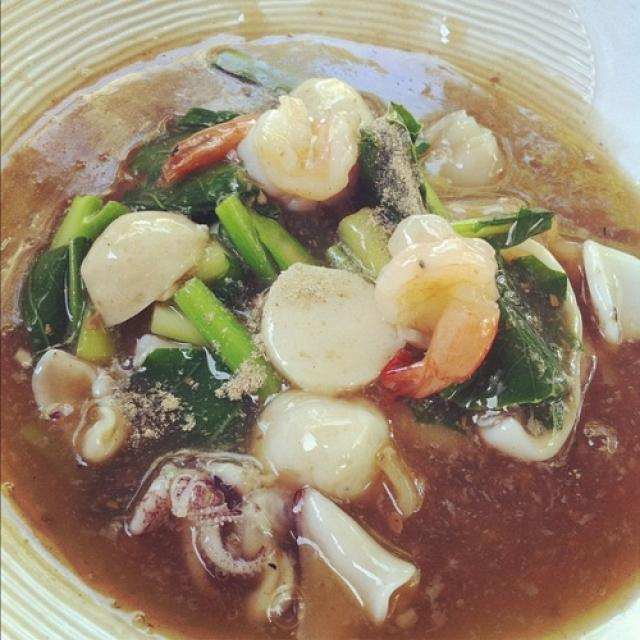面条主食: (15, 28, 621, 618)
